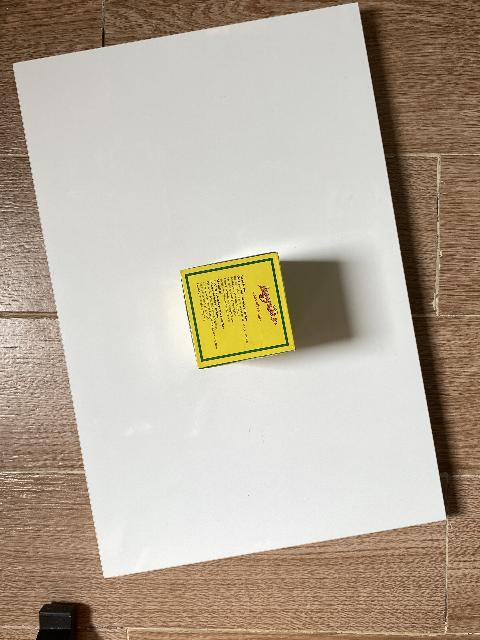luong_kho: (180, 252, 296, 370)
